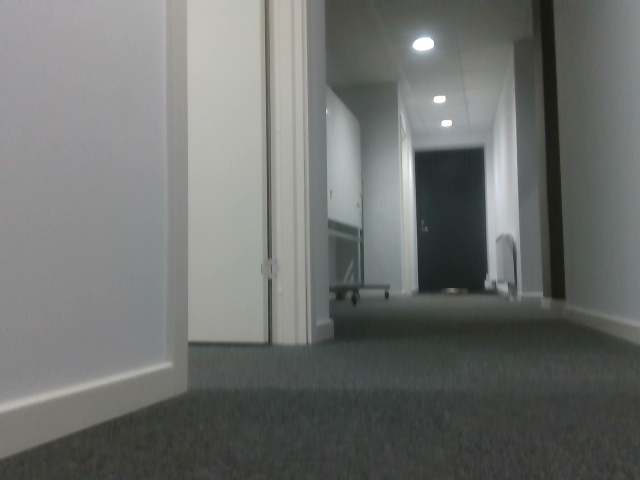alfa: (566, 262, 598, 301)
